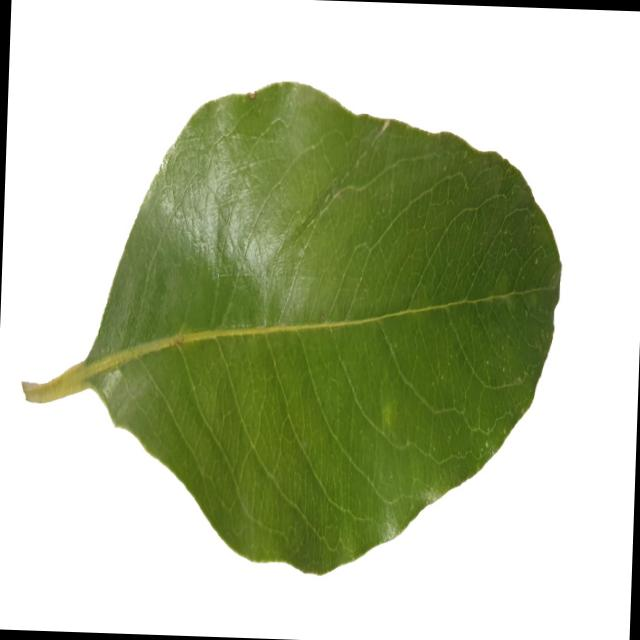Medicinal-Sandalwood: (18, 69, 565, 582)
